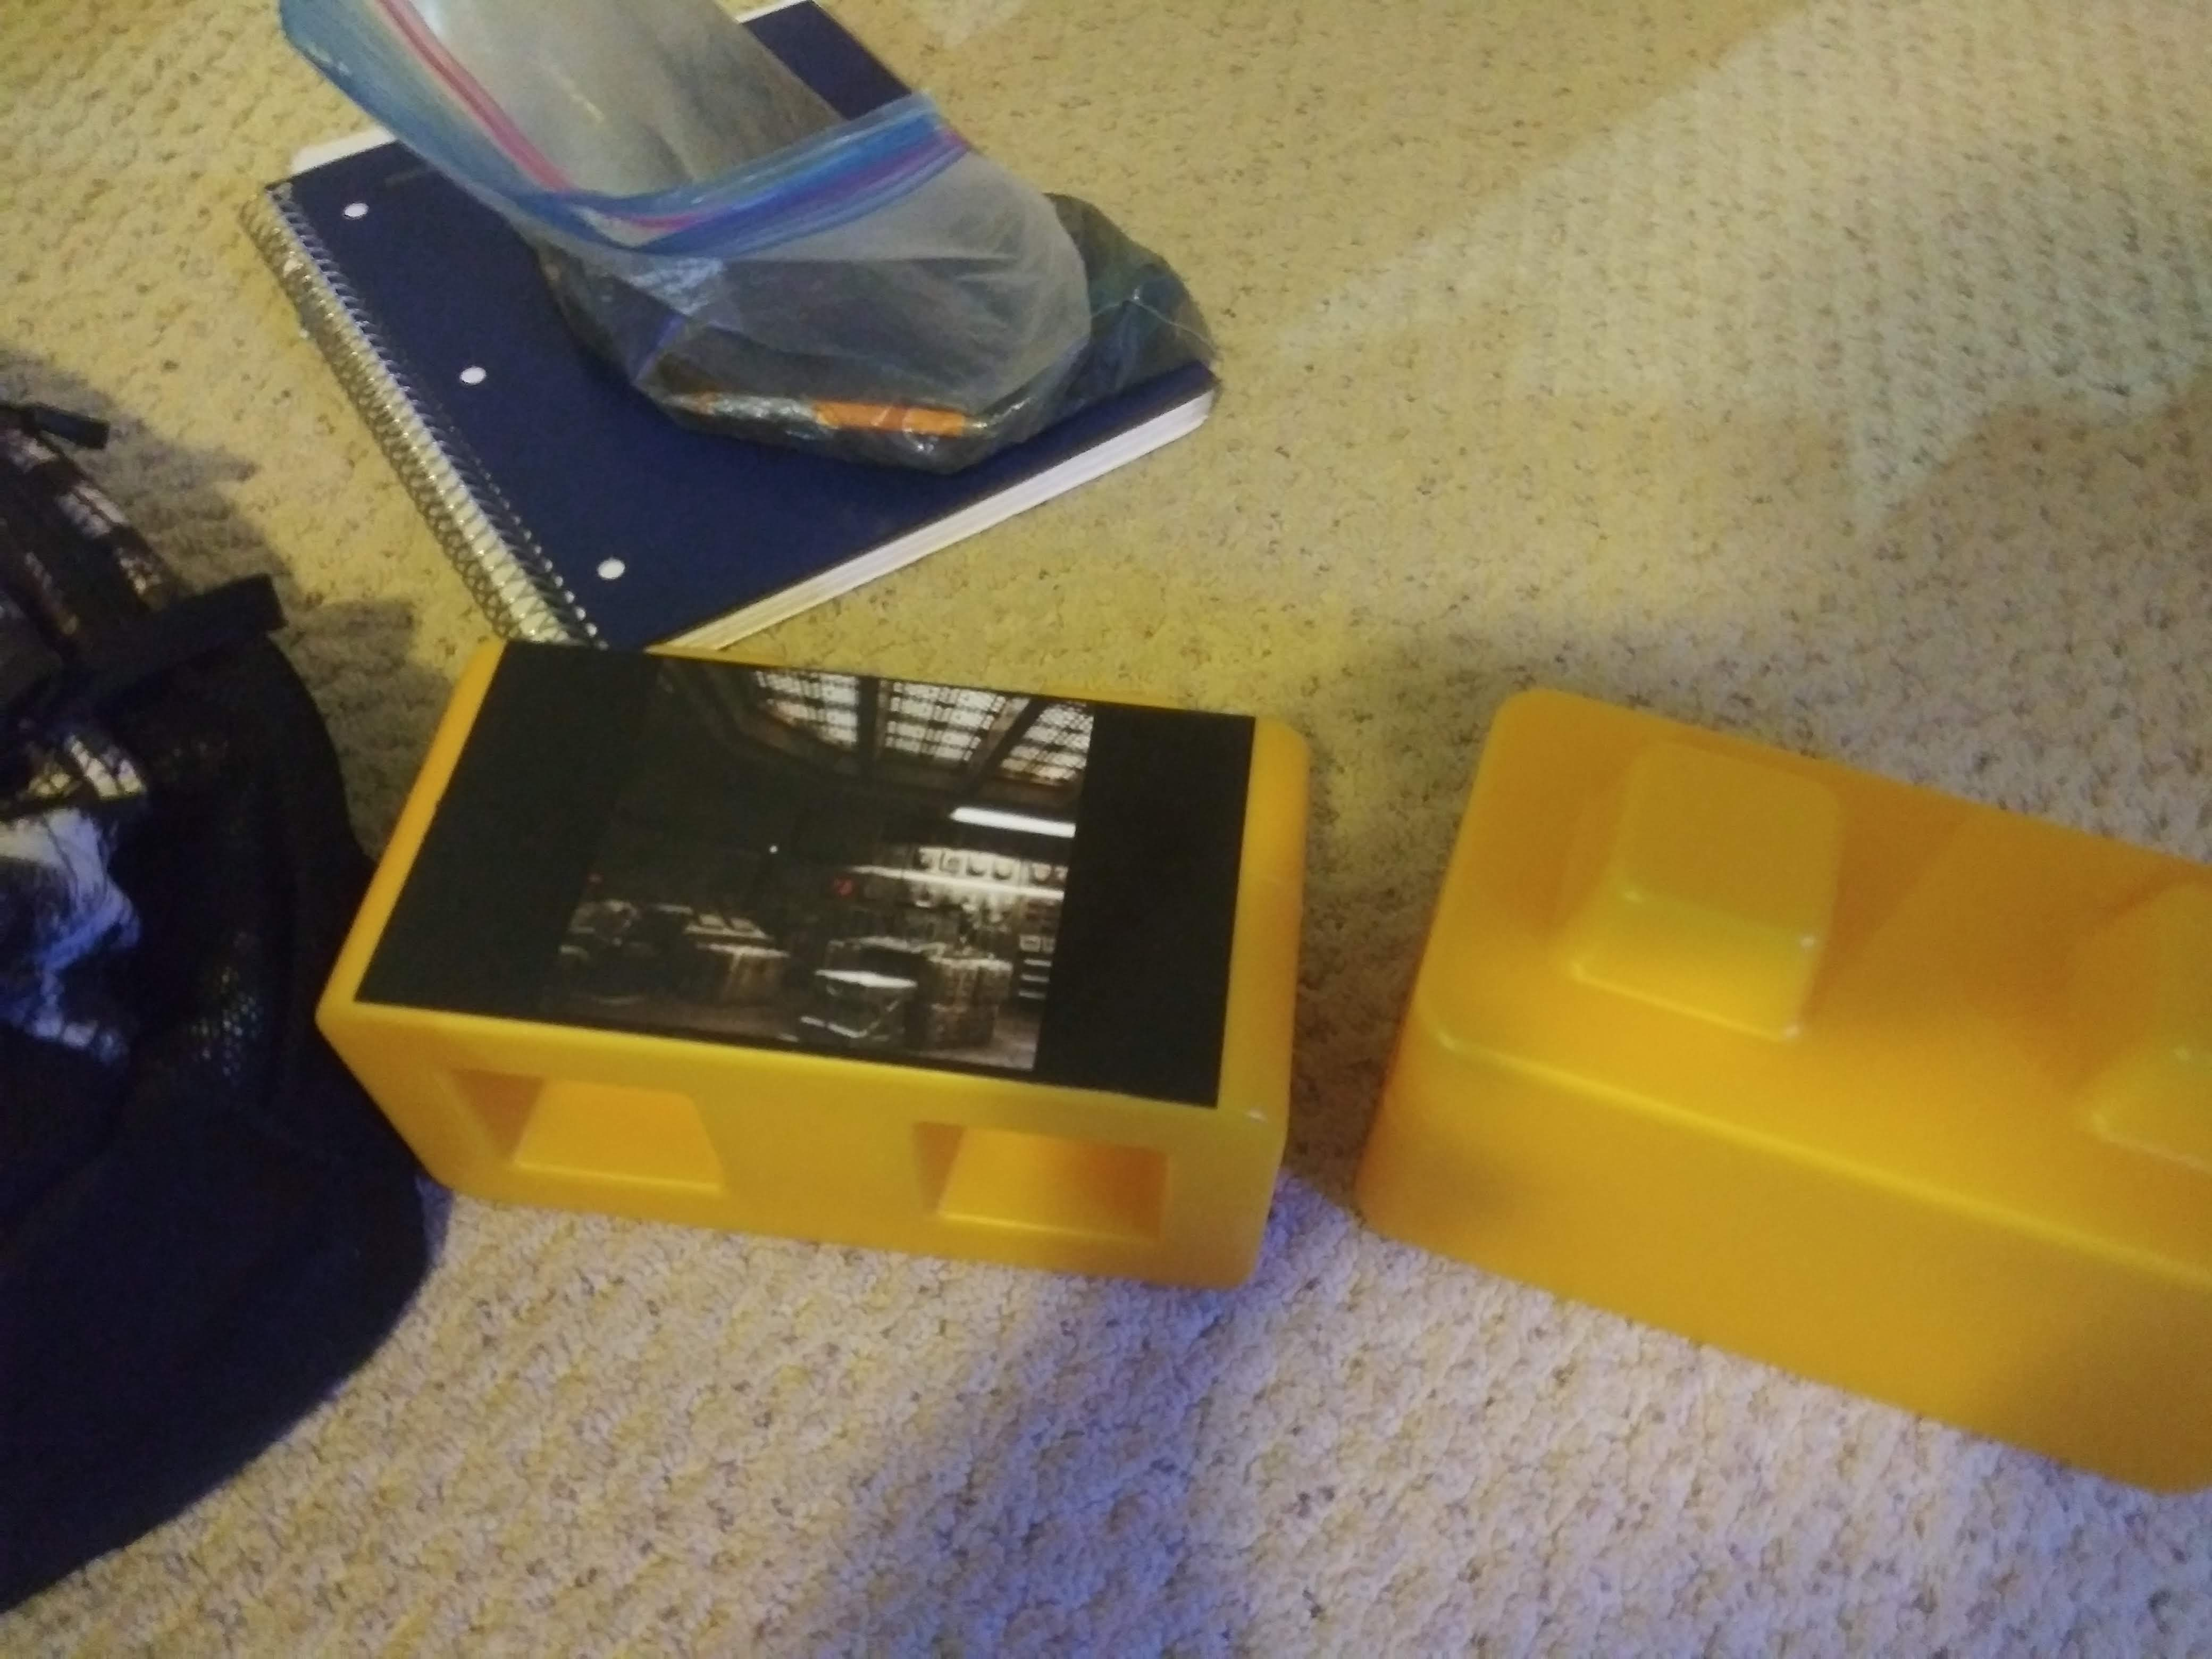skystone: (401, 653, 1264, 1249)
stone: (1449, 713, 2200, 1429)
